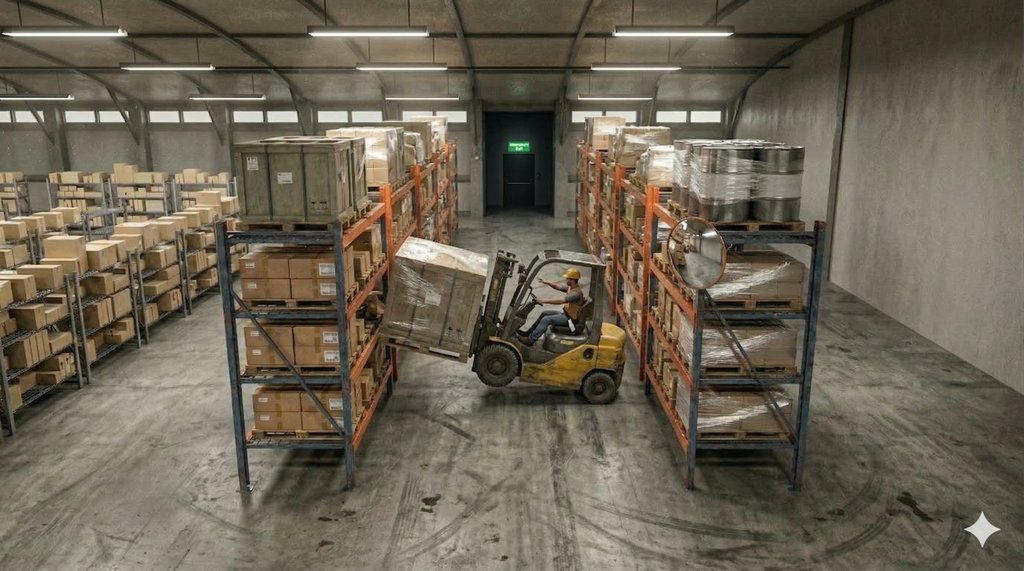forklift: (470, 206, 637, 424)
person: (536, 262, 590, 348)
safety_helmet: (560, 266, 582, 281)
safety_vest: (559, 286, 588, 327)
